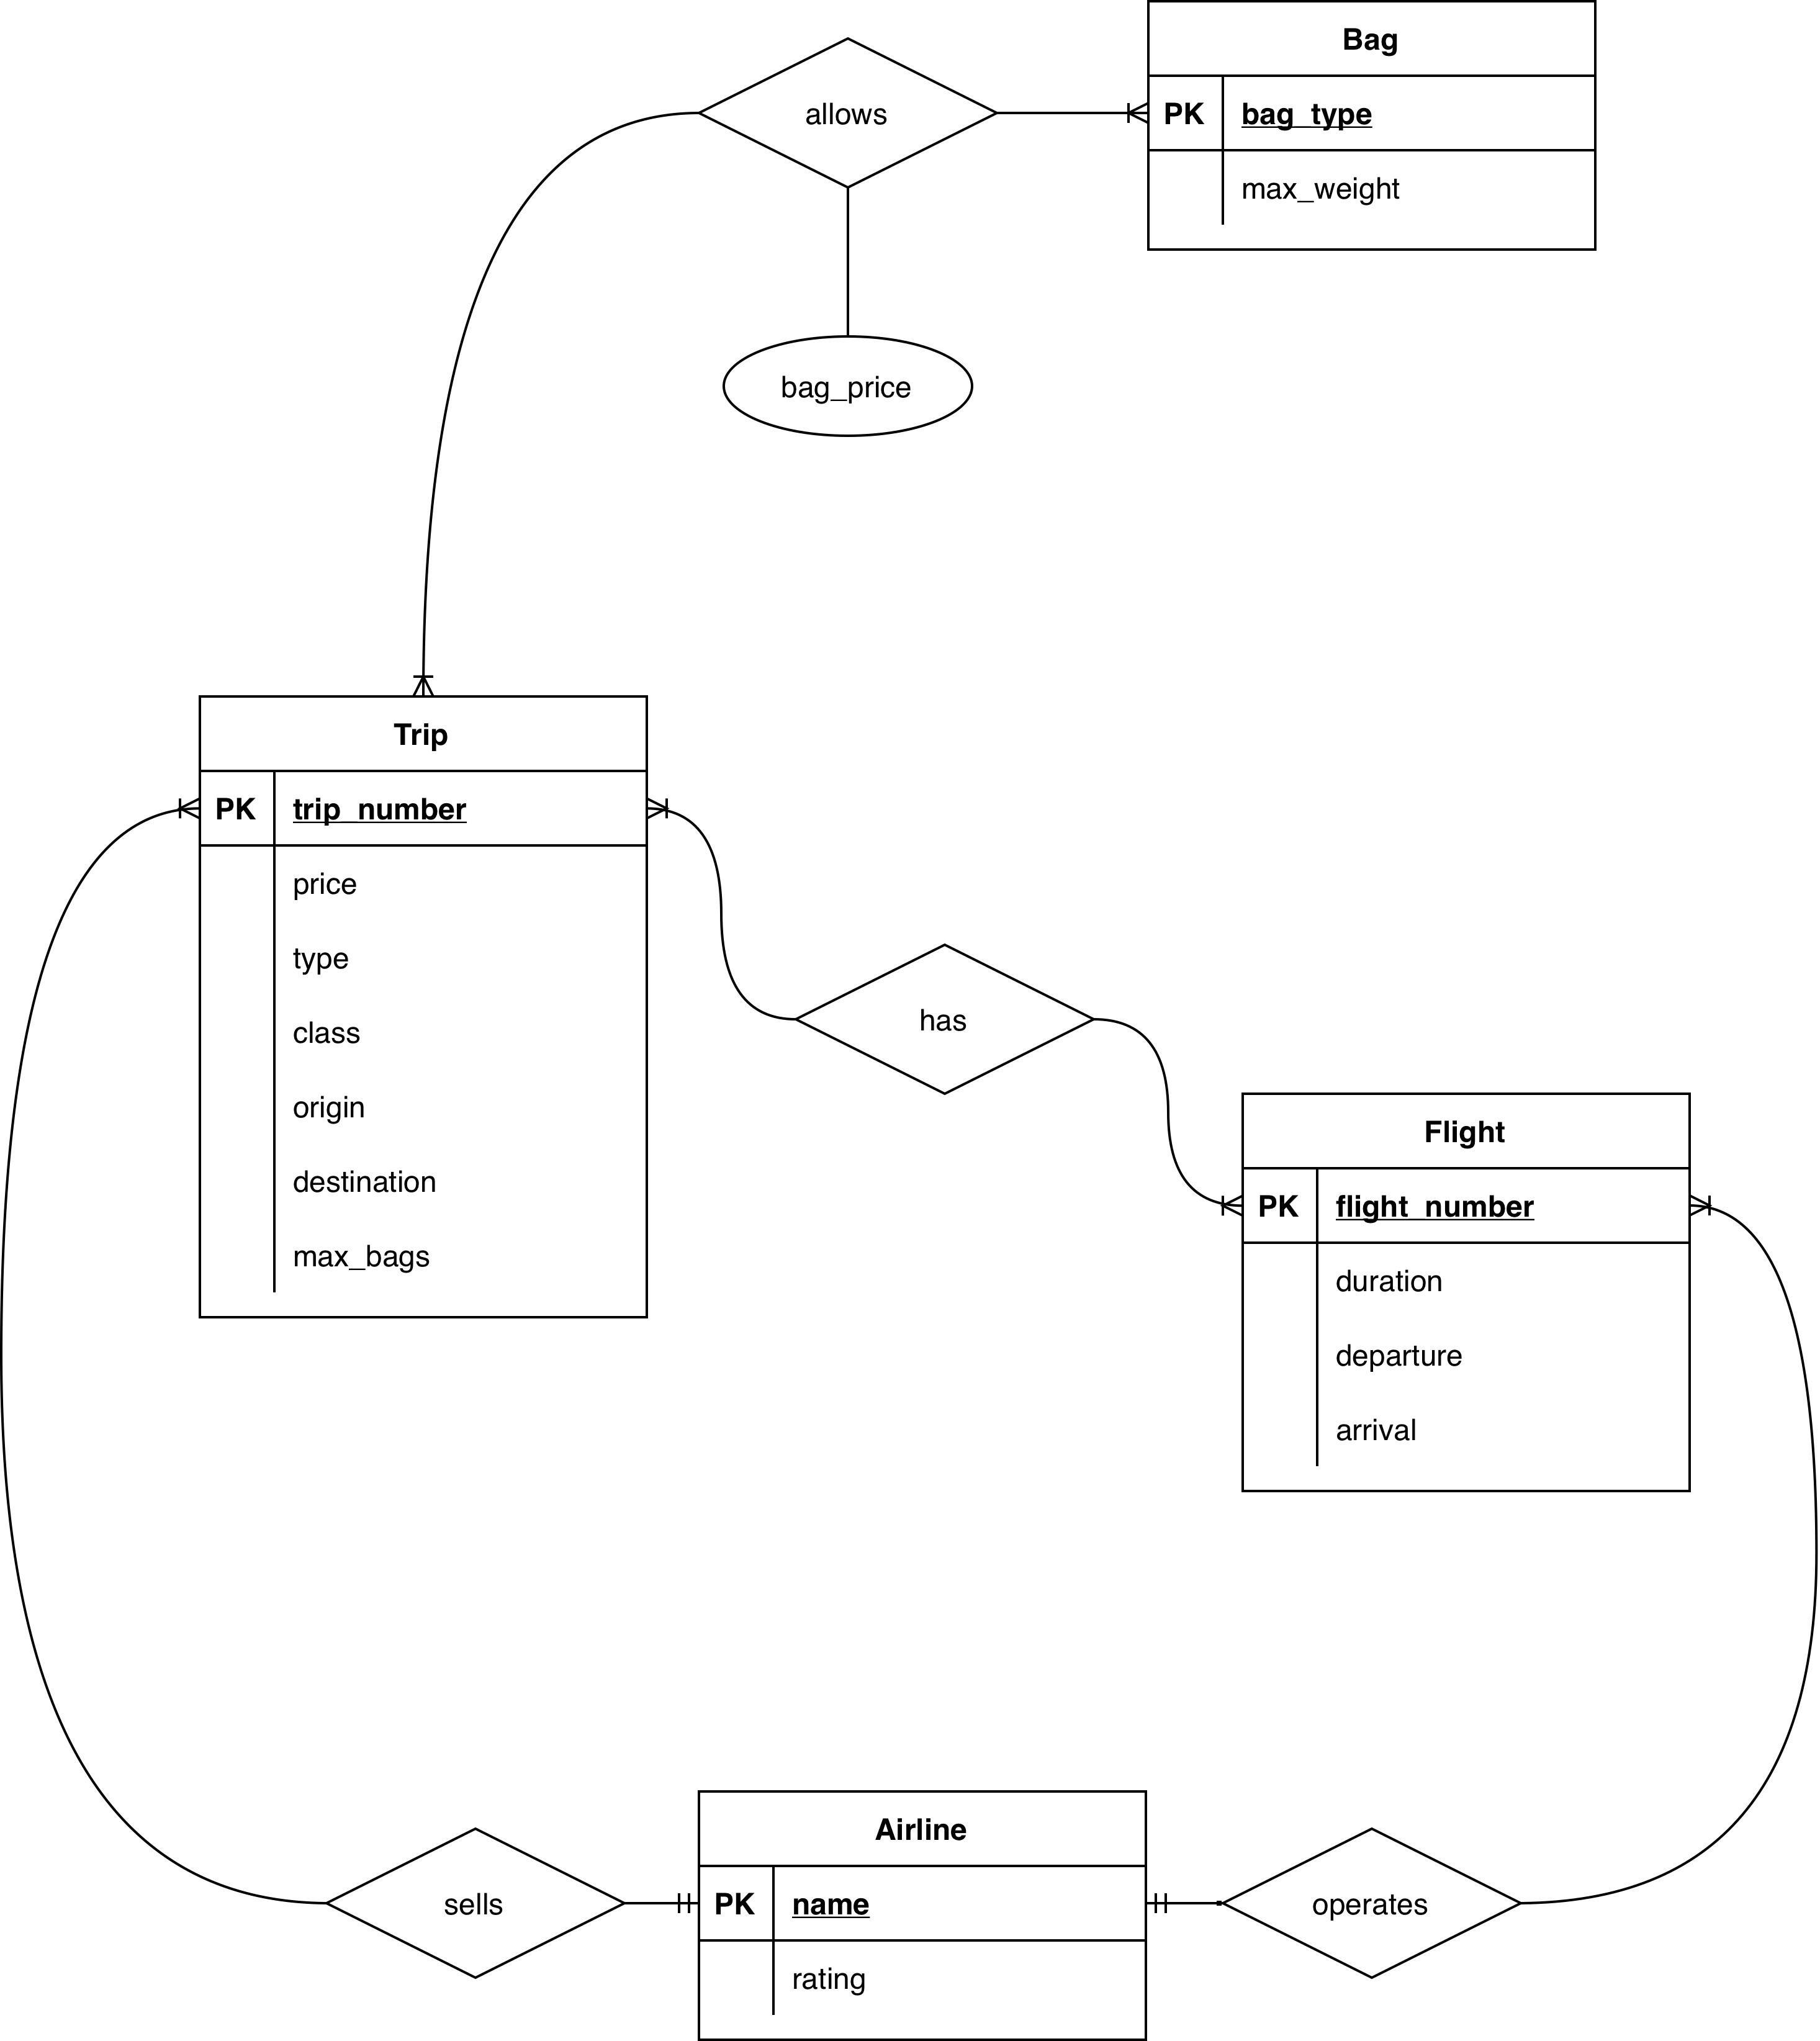attribute: (724, 330, 968, 437)
entity: (197, 690, 655, 1326), (1237, 1087, 1695, 1496), (1138, 0, 1604, 258), (692, 1785, 1154, 2041)
relationship: (701, 35, 998, 191), (799, 938, 1094, 1094), (1228, 1823, 1523, 1980), (330, 1830, 620, 1983)
